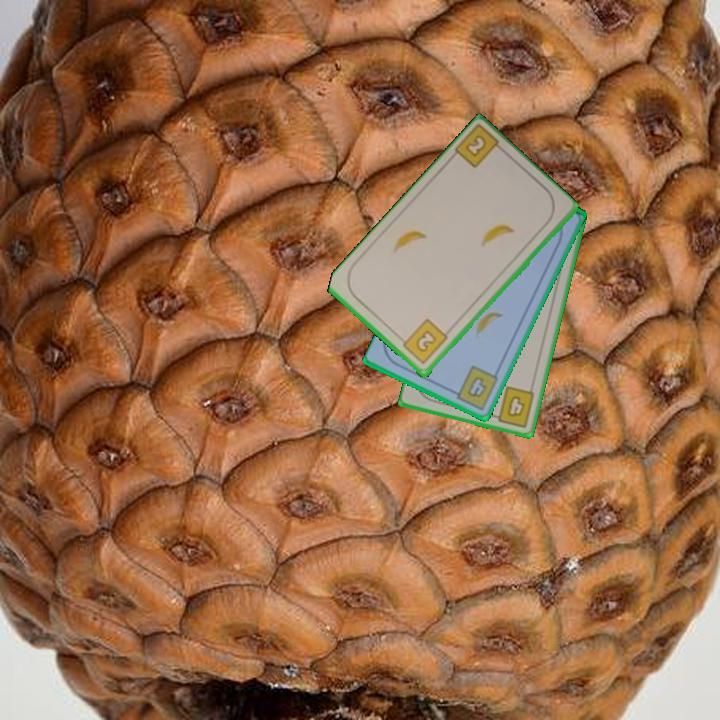2b: (451, 123, 509, 171), (397, 316, 451, 367)
4b: (448, 362, 502, 413), (488, 383, 538, 430)
